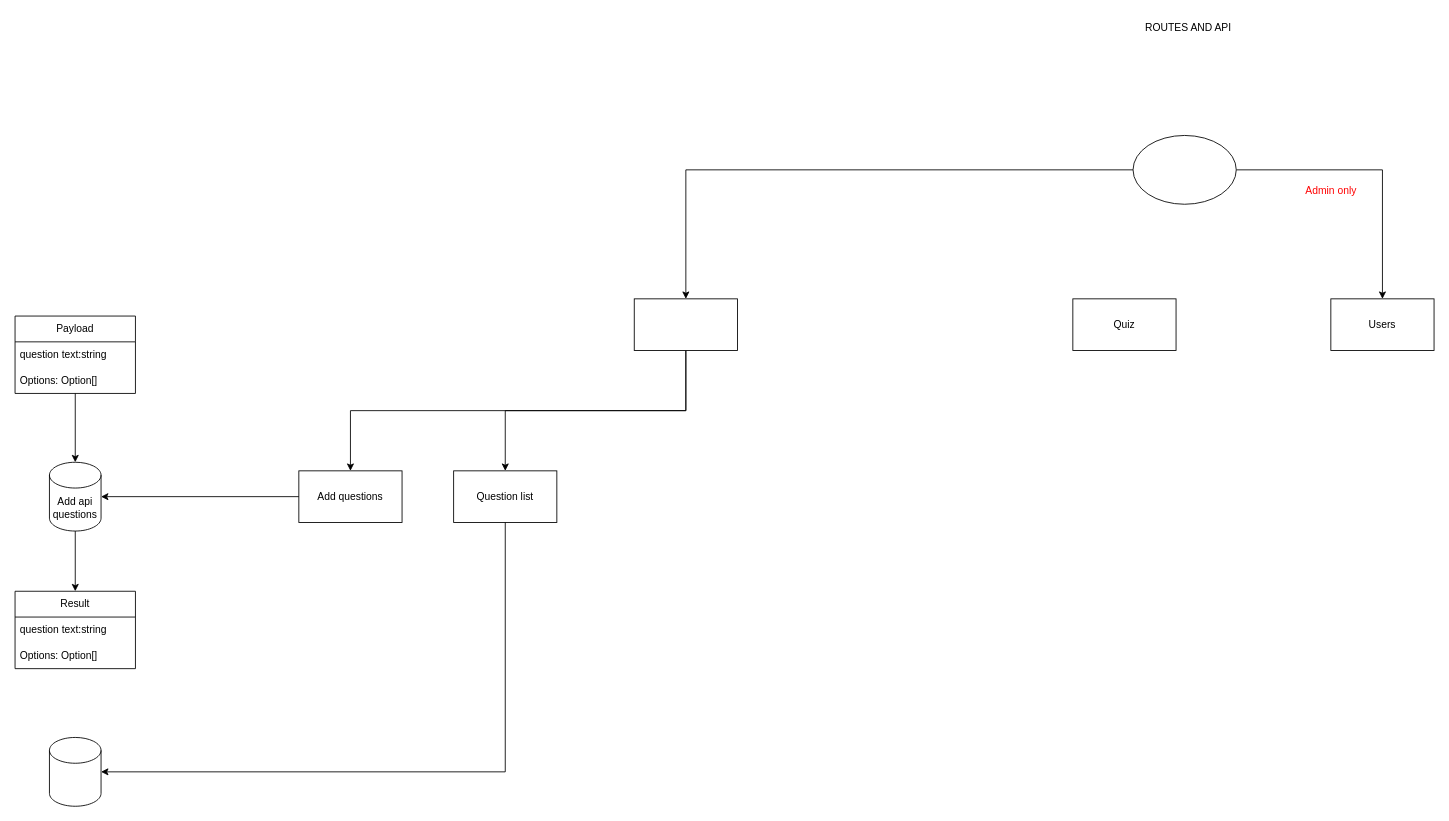
Image size: 1449x821. Some labels were removed from this diagram. Each missing label, with the centre of its shape:
api question list: point (75, 771)
App: point (1184, 169)
Questions: point (685, 324)
